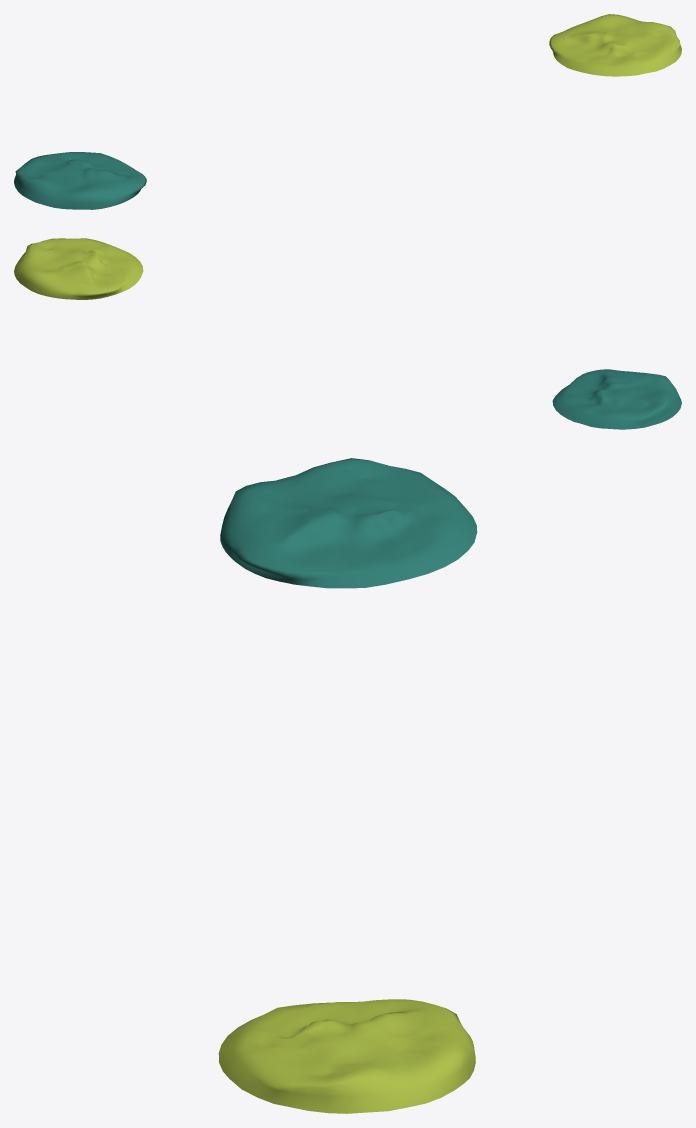
Rendered from Sand_Low.fbx.
3 renders of one model, top to bottom at view 1: azimuth 30°, elevation 25°; view 2: azimuth 150°, elevation 25°; view 3: azimuth 270°, elevation 25°, orthographic. The views are drawn at different scales.
Parts seen in each view (by area): view 1: Sand_Right_Low, Sand_Left_Low; view 2: Sand_Right_Low, Sand_Left_Low; view 3: Sand_Left_Low, Sand_Right_Low.
Part boxes in pixels (x1,y1,x2,y2): Sand_Right_Low: [549, 14, 681, 76]; Sand_Left_Low: [14, 152, 146, 209]; Sand_Right_Low: [14, 238, 143, 299]; Sand_Left_Low: [552, 369, 681, 429]; Sand_Left_Low: [220, 458, 477, 588]; Sand_Right_Low: [218, 999, 475, 1113].
Bounding box in the file's own units: 7893 × 186 × 1358.
